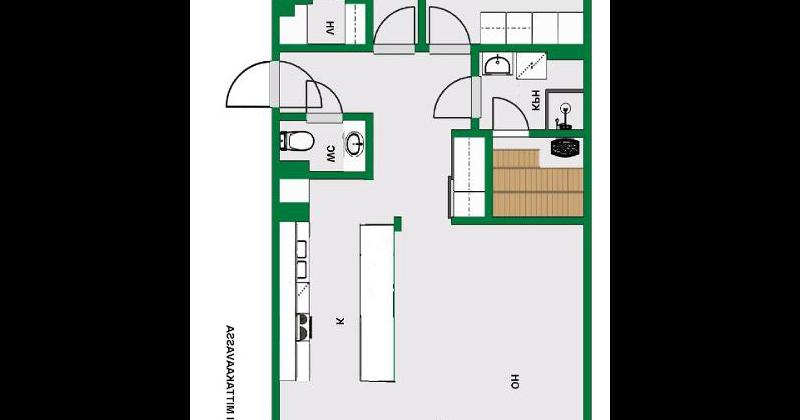door: (222, 56, 280, 110), (270, 58, 322, 109), (431, 74, 484, 120), (427, 5, 472, 54), (374, 4, 416, 56), (303, 78, 346, 124), (492, 94, 532, 138)
